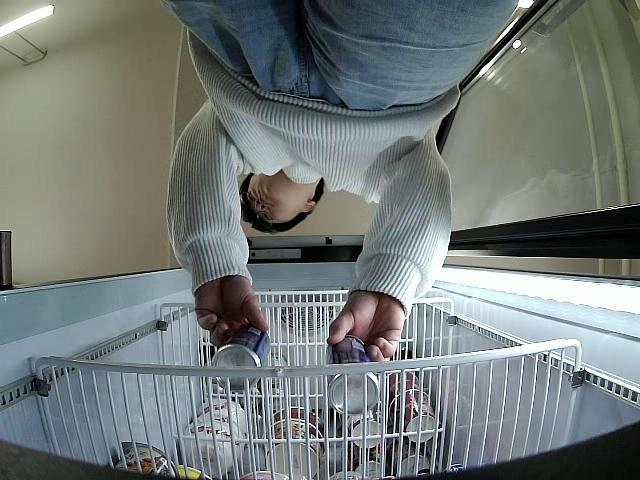16_hot6: (325, 334, 380, 416), (208, 325, 273, 392)
